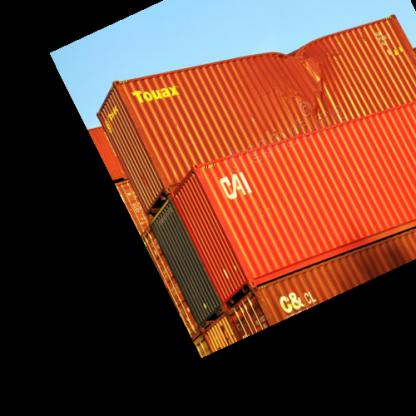Damage: (282, 47, 338, 101)
